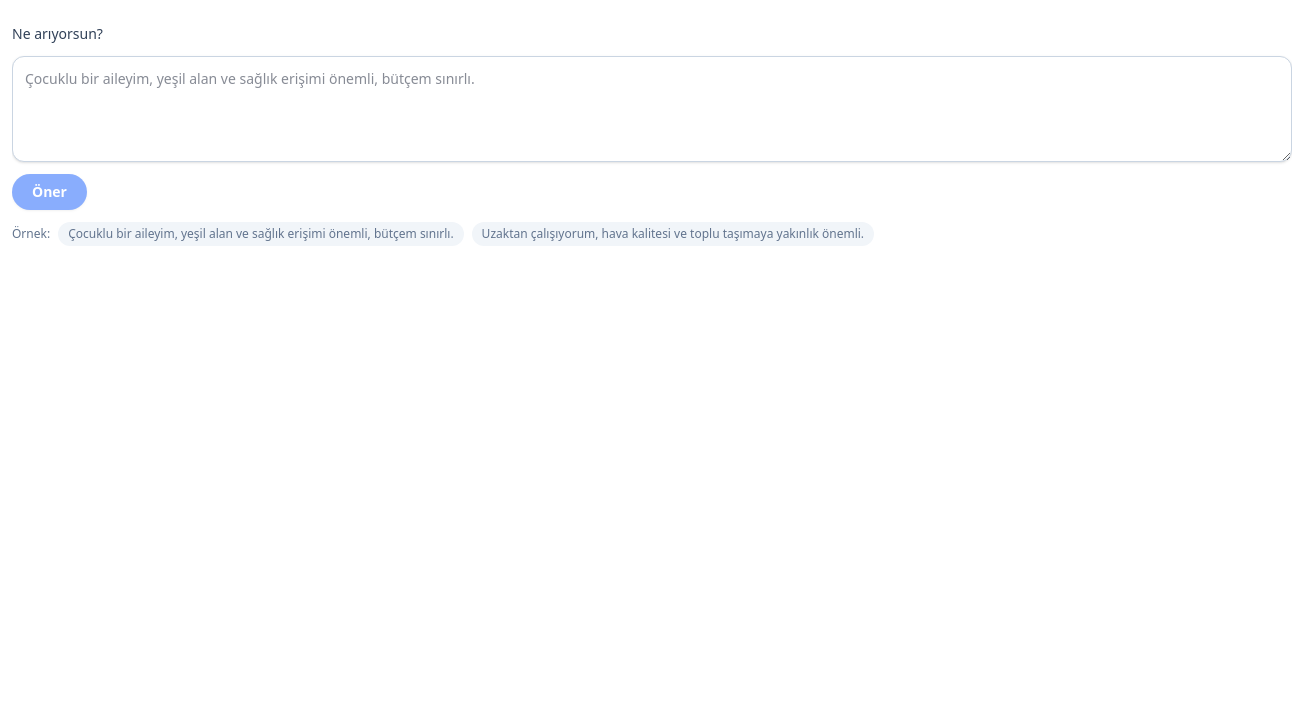
AssistantClient › shows the AI disclosure label and the real score data behind a grounded recommendation
The image size is (1304, 720).
Replace the text in the text box labelled "Ne arıyorsun?" with "Hava kalitesi önemli" at [652, 109], box [12, 56, 1292, 162]
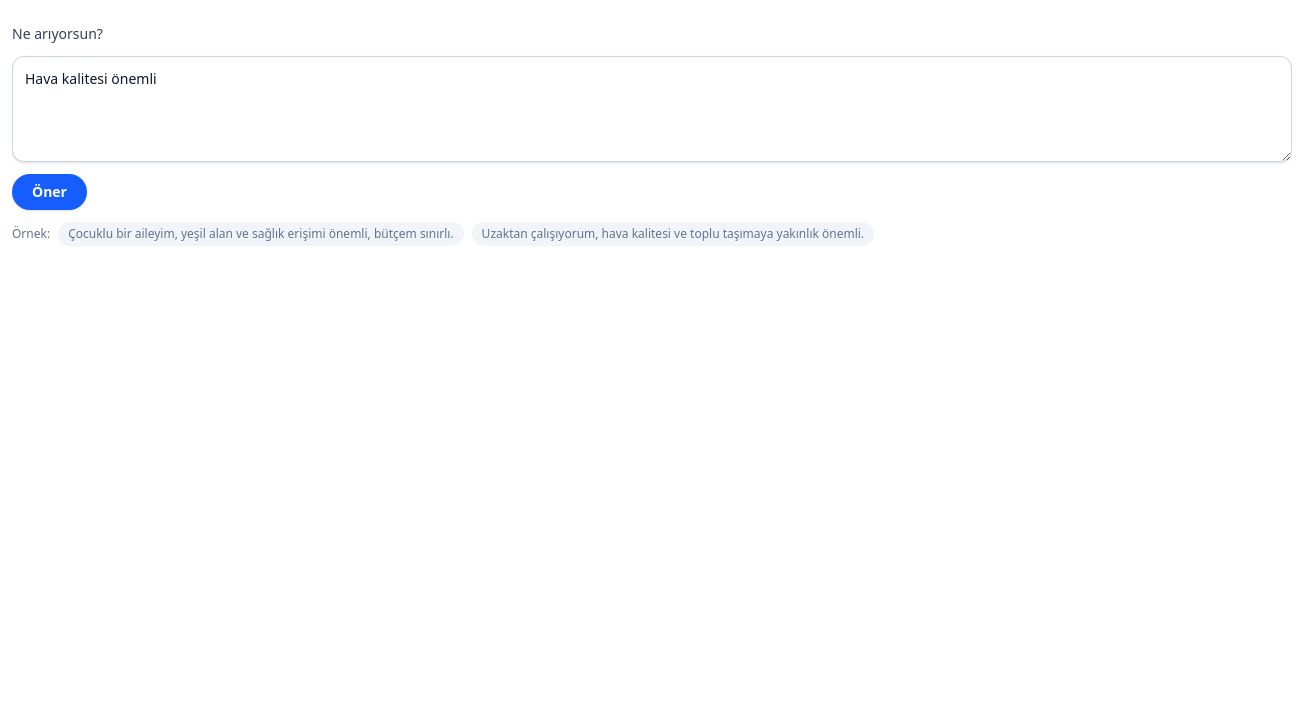
Click the button "Öner" at [50, 192], box [12, 174, 87, 210]
(page scrolled)
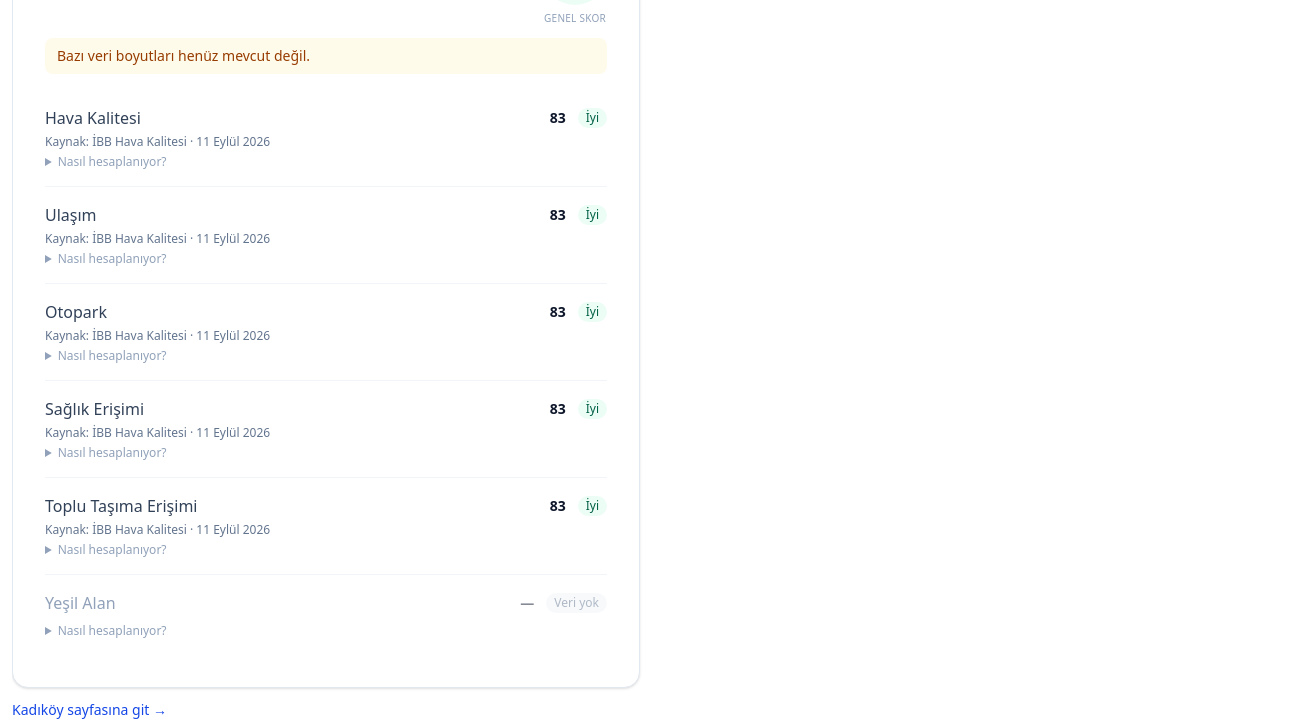
Expected: the text "Veri yok" is shown, [546, 593, 607, 613]
